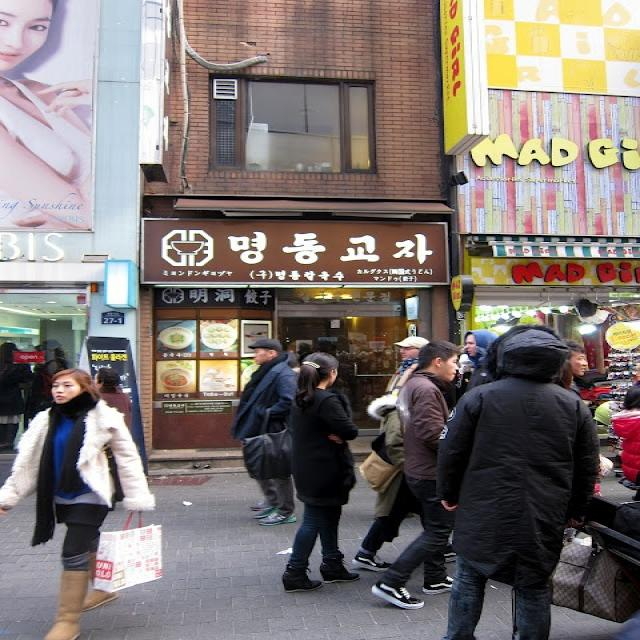body: (433, 323, 604, 640), (0, 366, 157, 639), (368, 338, 472, 610), (0, 0, 92, 234), (348, 389, 461, 574), (279, 351, 360, 593), (226, 337, 298, 526), (90, 366, 134, 505), (0, 340, 35, 453), (609, 384, 640, 502), (27, 339, 72, 420), (458, 329, 502, 398), (384, 335, 432, 398), (450, 345, 478, 407), (563, 339, 589, 397), (284, 340, 311, 370), (592, 457, 604, 498), (248, 496, 275, 512)
